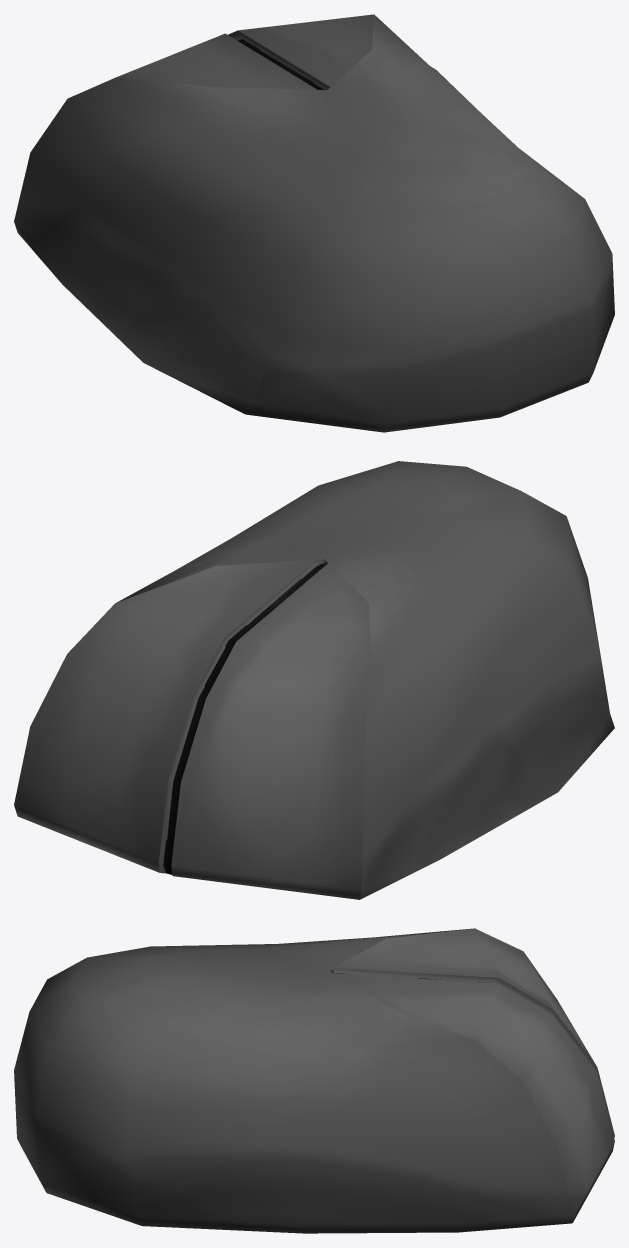
The model's file is Mouse.obj.
3 renders of one model, top to bottom at view 1: azimuth 30°, elevation 25°; view 2: azimuth 150°, elevation 25°; view 3: azimuth 270°, elevation 25°, orthographic. The views are drawn at different scales.
Parts seen in each view (by area): view 1: Mouse_Sphere; view 2: Mouse_Sphere; view 3: Mouse_Sphere.
Part boxes in pixels (left/top/right/bottom): Mouse_Sphere: left=14, top=14, right=614, bottom=432; Mouse_Sphere: left=14, top=461, right=614, bottom=899; Mouse_Sphere: left=14, top=928, right=614, bottom=1233.
Bounding box in the file's own units: 1.35 × 0.6596 × 1.95.
1 material, 1 textured.
